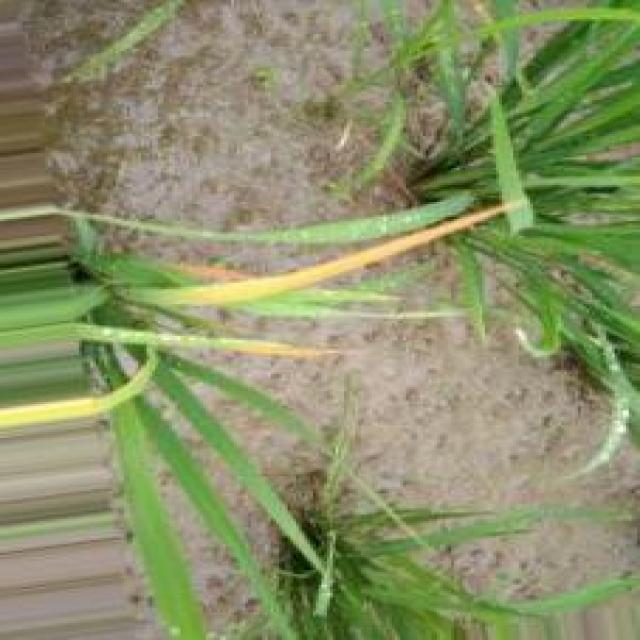Rice Tungro: (152, 204, 512, 306), (0, 322, 333, 358)
